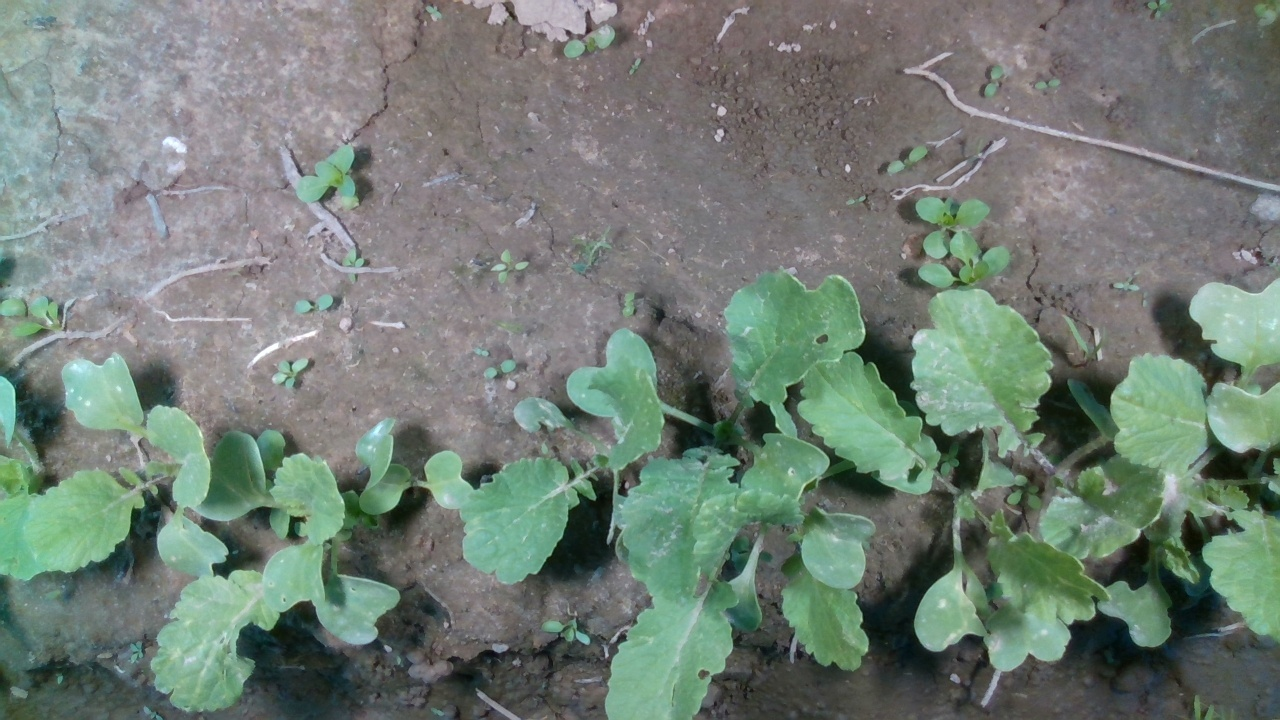weed: (482, 250, 534, 287), (884, 142, 933, 179), (270, 357, 311, 393), (291, 292, 334, 317), (982, 60, 1005, 103), (1031, 72, 1062, 100), (614, 291, 640, 319), (838, 185, 867, 209), (1109, 278, 1144, 296), (471, 343, 486, 363)
